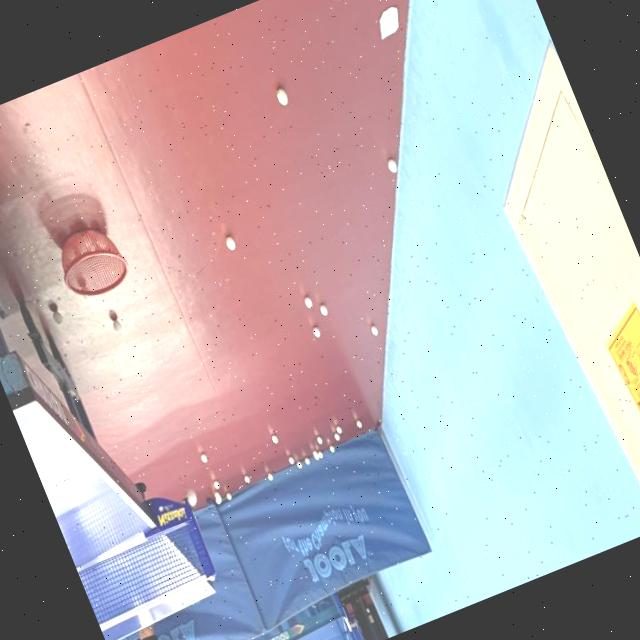ping-pong-ball: (46, 302, 66, 329), (272, 82, 292, 108), (380, 152, 400, 178), (106, 313, 125, 336), (220, 229, 238, 252), (298, 290, 316, 312), (307, 321, 324, 340), (316, 300, 332, 320), (238, 470, 254, 489), (330, 419, 345, 438), (366, 318, 380, 338), (282, 450, 296, 470), (196, 449, 210, 468), (208, 474, 222, 492), (312, 430, 325, 448), (352, 415, 364, 433), (324, 439, 336, 457), (261, 468, 275, 483), (268, 430, 280, 446), (300, 454, 312, 468), (221, 488, 233, 502)
